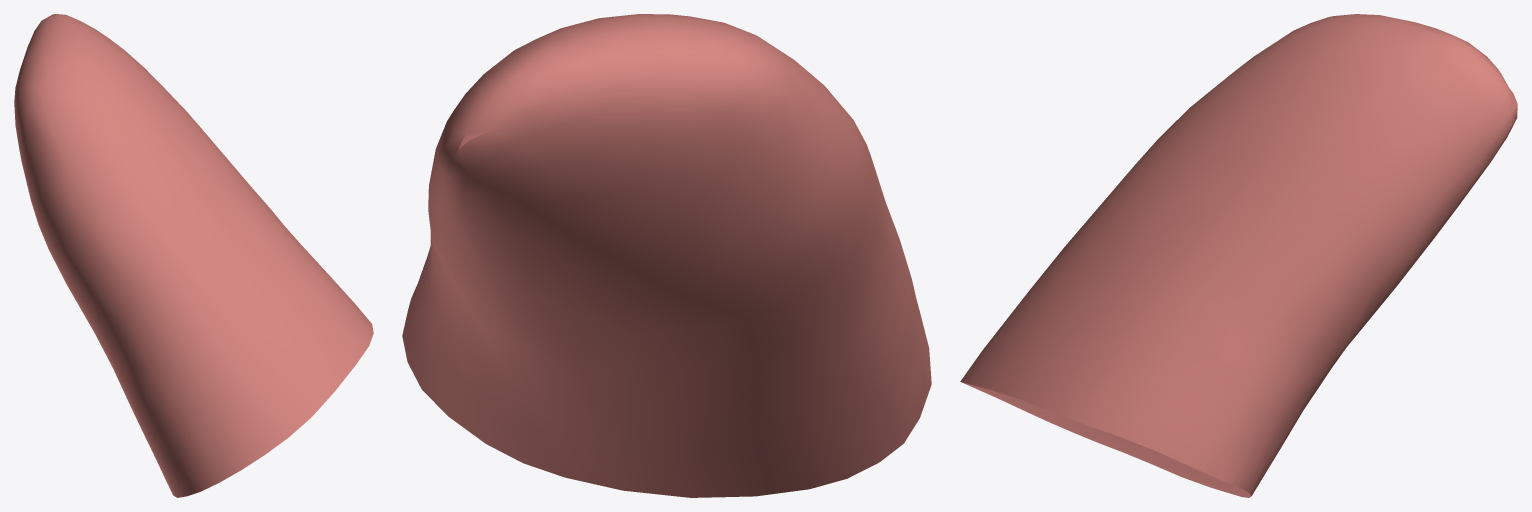
Rendered from fma299908_mm3939m.glb.
3 views of the same model, side by side, from view 1: azimuth 30°, elevation 25°; view 2: azimuth 150°, elevation 25°; view 3: azimuth 270°, elevation 25° (orthographic). The views are drawn at different scales.
Visible parts, largest first — view 1: FMA299908_MM3939M; view 2: FMA299908_MM3939M; view 3: FMA299908_MM3939M.
Part boxes in pixels (x1,y1,x2,y2): FMA299908_MM3939M: [14, 14, 373, 497]; FMA299908_MM3939M: [402, 14, 931, 497]; FMA299908_MM3939M: [960, 14, 1517, 497].
Size of the model in its own units: 0.0212 by 0.0259 by 0.0304.
